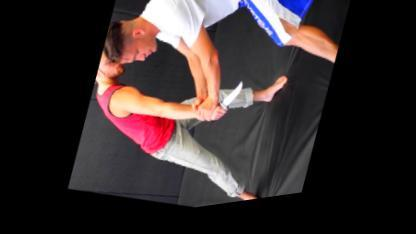knife: (206, 78, 246, 136)
